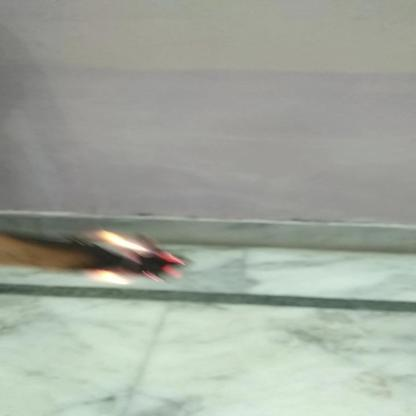fire: (79, 228, 188, 287)
